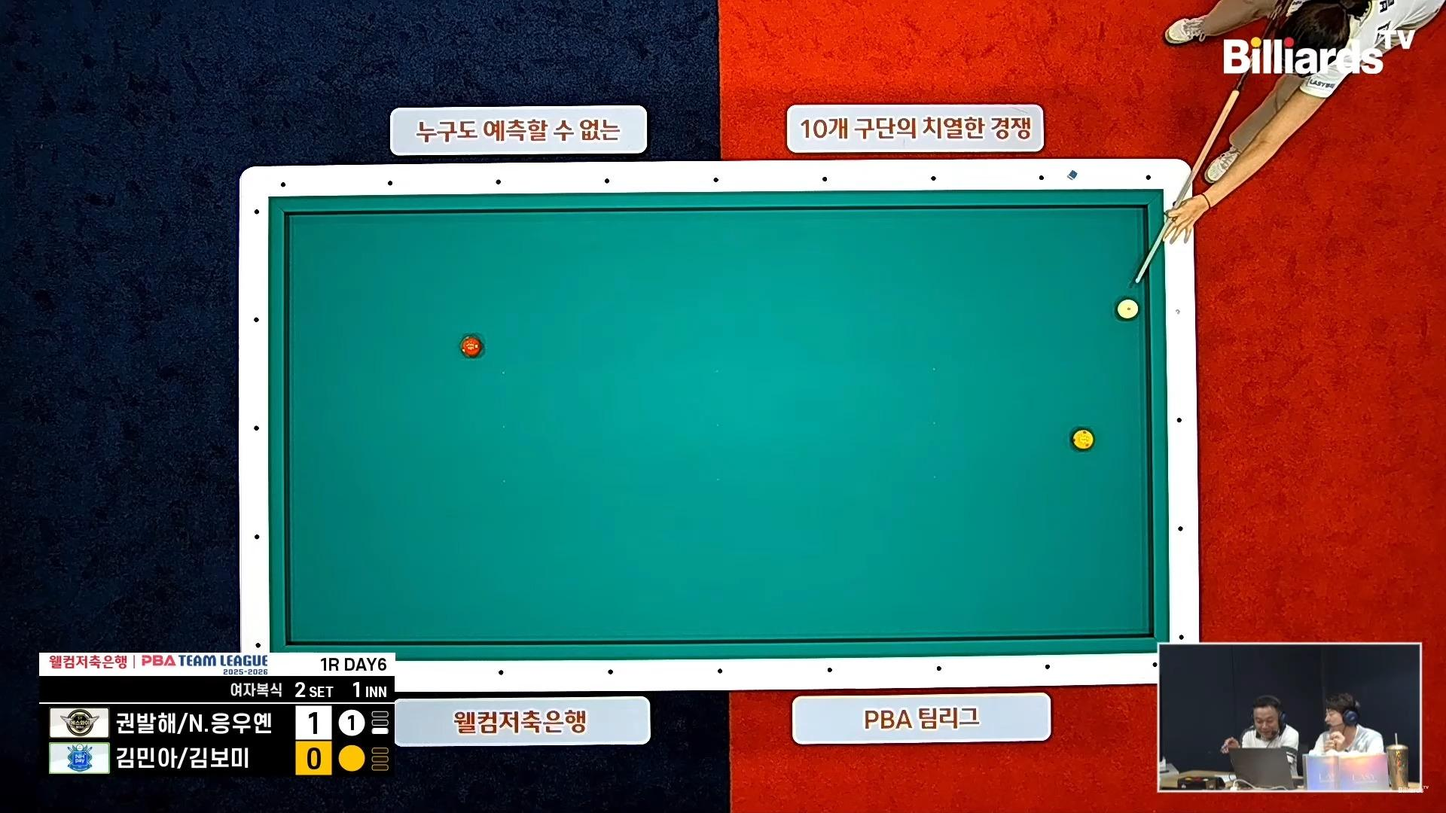billiard-ball-Red: (460, 334, 481, 361)
billiard-ball-Yellow: (1068, 426, 1098, 454)
billiard-ball-white: (1117, 296, 1140, 323)
